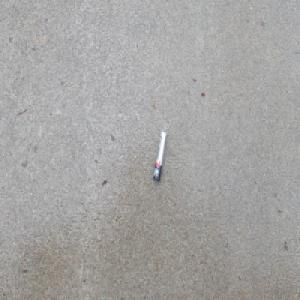Battery: (153, 129, 167, 182)
